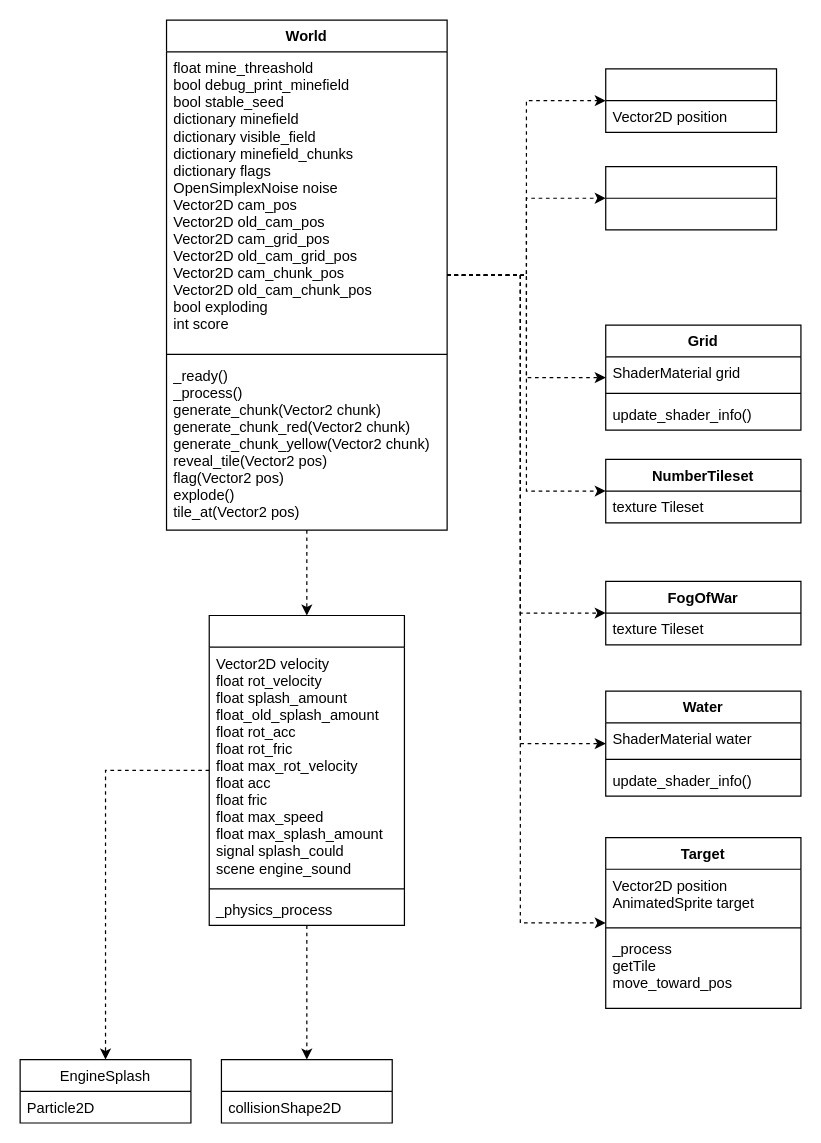
The diagram is 821 pixels wide and 1143 high, and some of its shapes have lost their labels. Here are the shapes that lost their labels. From the top down, the box of each, then its label:
(605, 68, 777, 132): TargetGuide
(605, 165, 777, 230): Camera2D
(208, 614, 404, 925): Ship
(220, 1058, 392, 1123): Hurtbox
